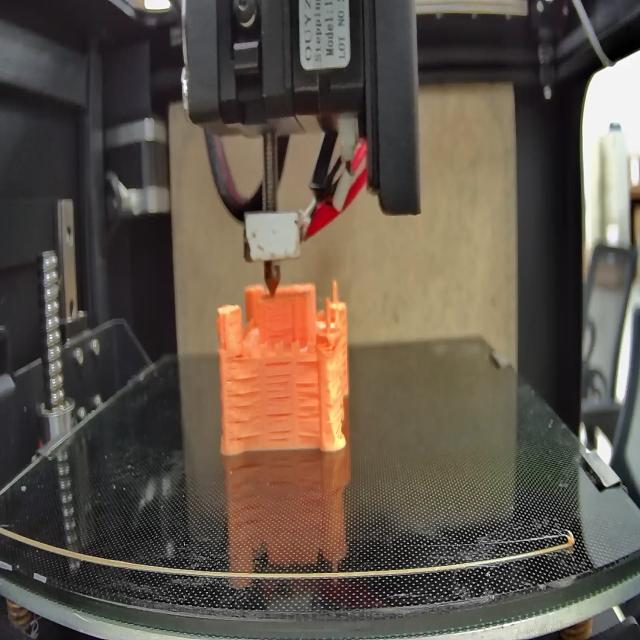cracks: (226, 373, 260, 444), (294, 380, 320, 435), (266, 362, 296, 402), (267, 411, 292, 445), (228, 347, 249, 363), (298, 356, 320, 368)
